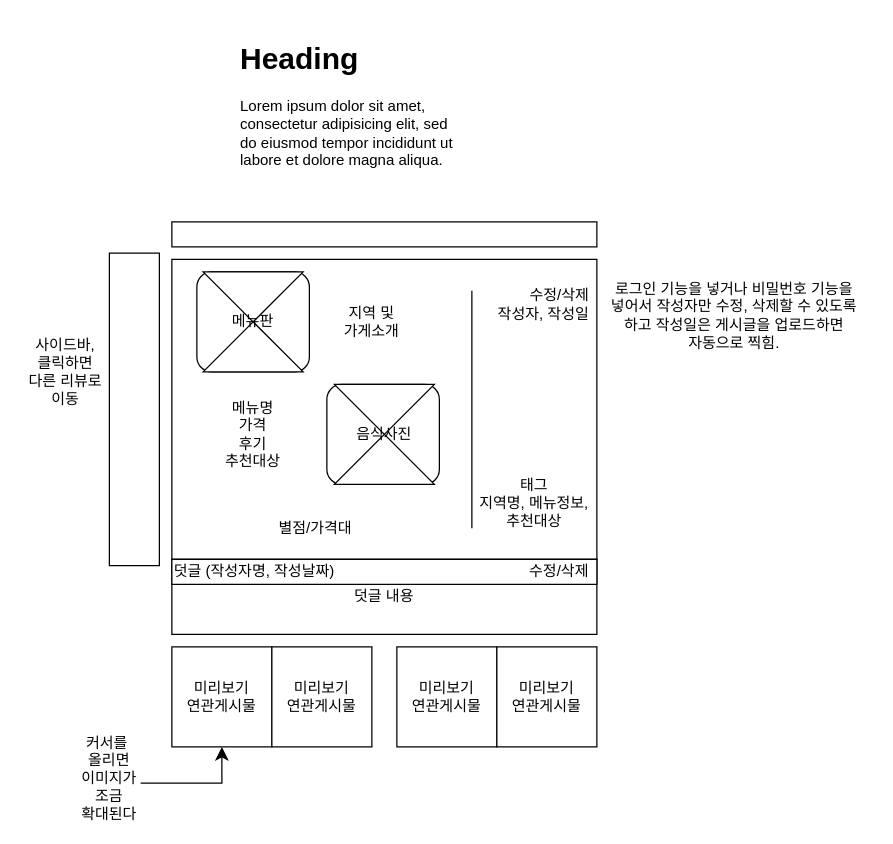
This 893x844 diagram has some shape labels left out. The shapes that lost their labels are listed below. From the top down, each one's centre as x and y in pixels, then its label:
At [384,234]: "게시글 제목".
At [133,409]: "한 식 ㅡ 일 식 ㅡ 양 식 ㅡ 중 식 ㅡ 디 저 트".
